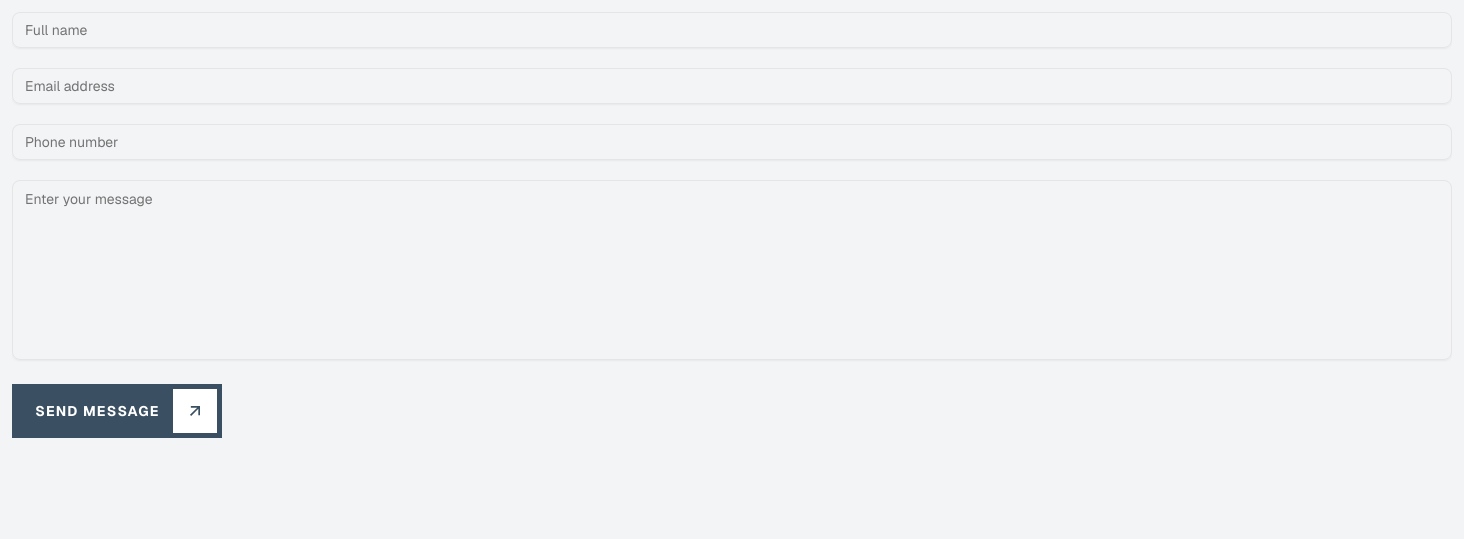
Test case: Contact Form › shows error alert when API fails
The width and height of the screenshot is (1464, 539).
Type "John Doe" into the field with placeholder "Full name" at (732, 30), box [12,12,1452,48]
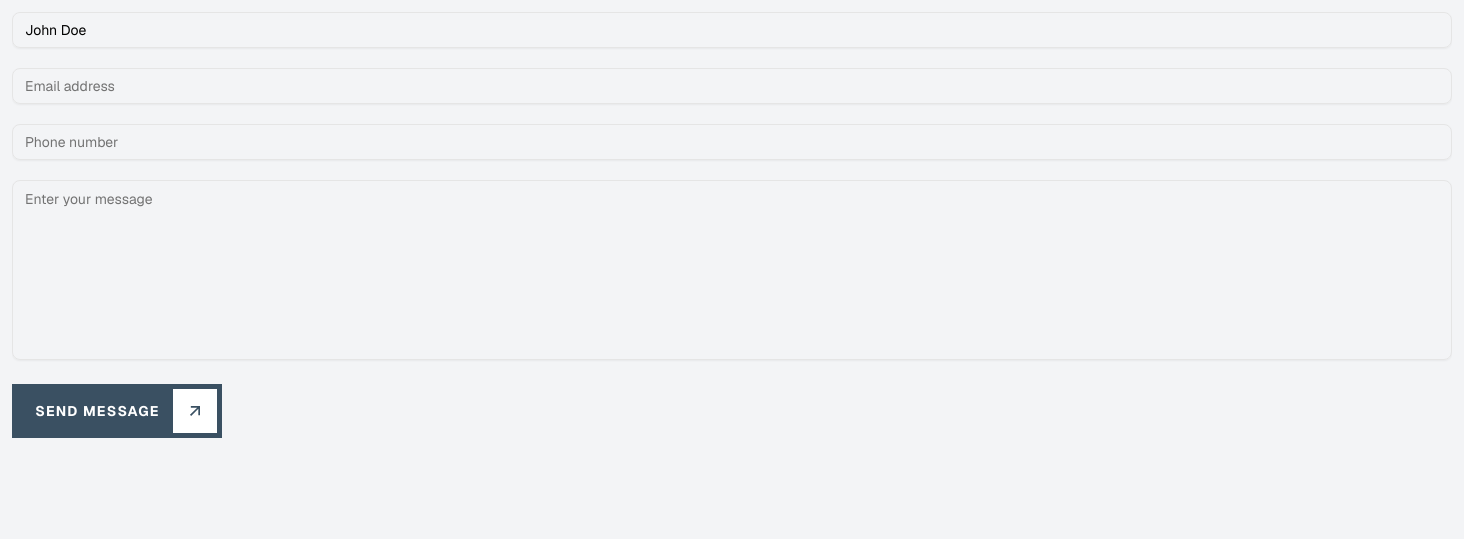
Type "john@example.com" into the field with placeholder "Email address" at (732, 86), box [12,68,1452,104]
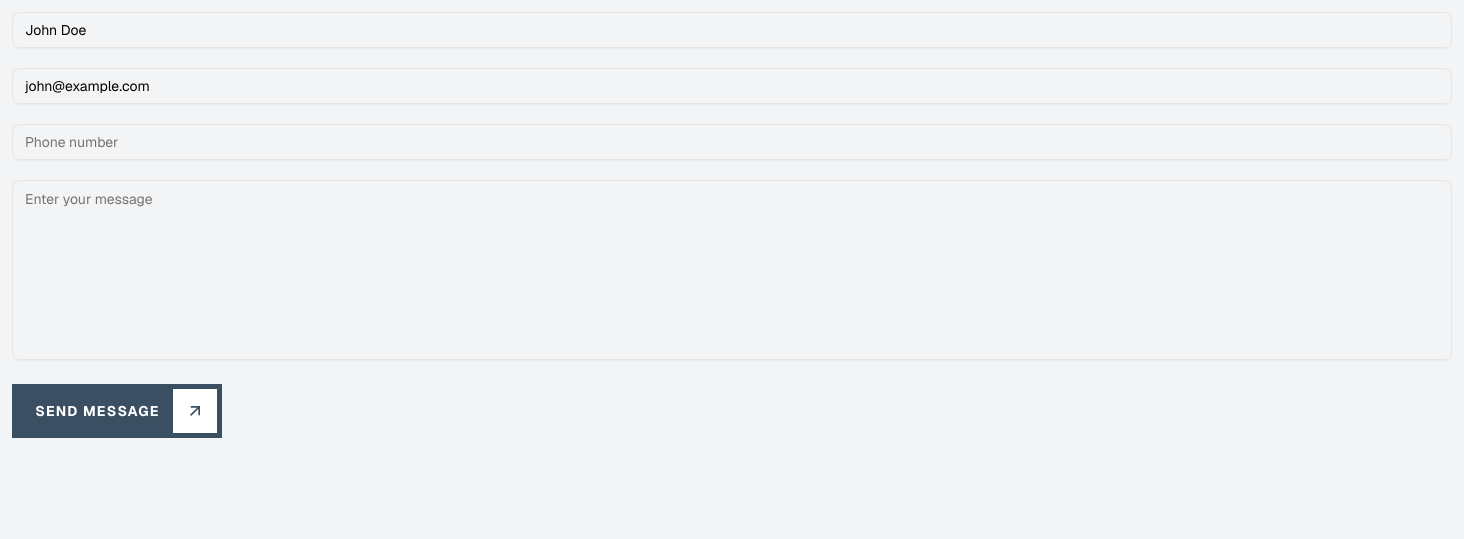
Type "555-5555" into the field with placeholder "Phone number" at (732, 142), box [12,124,1452,160]
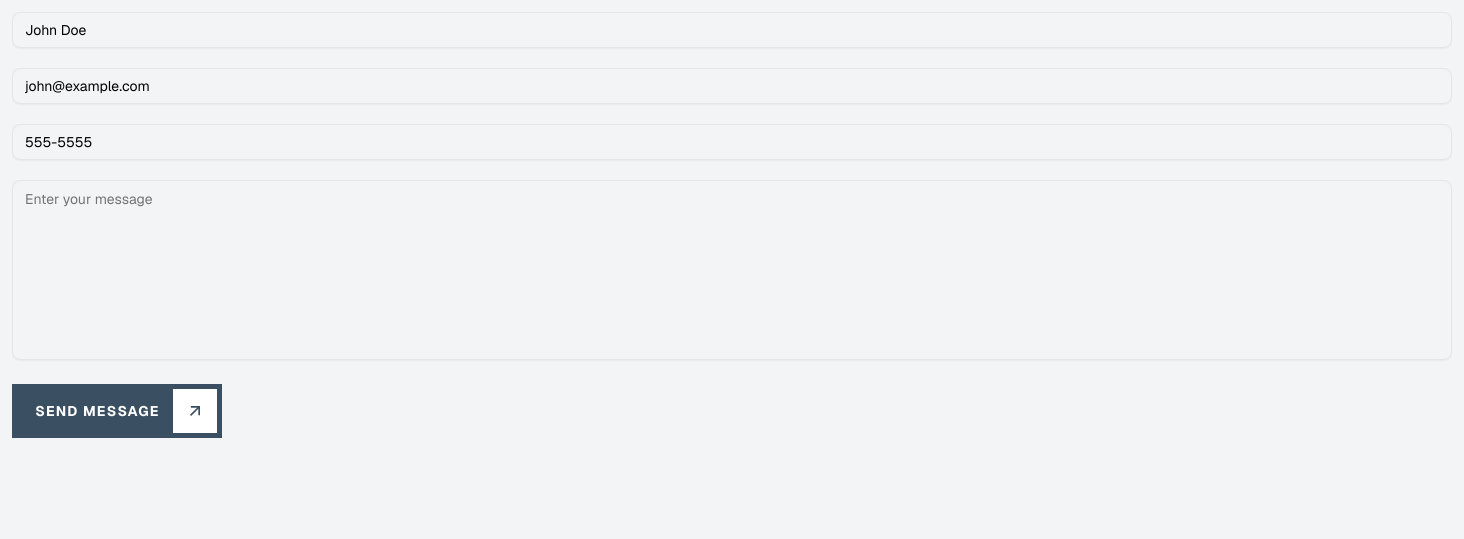
Type "Hello world" into the text box with placeholder "Enter your message" at (732, 270), box [12,180,1452,360]
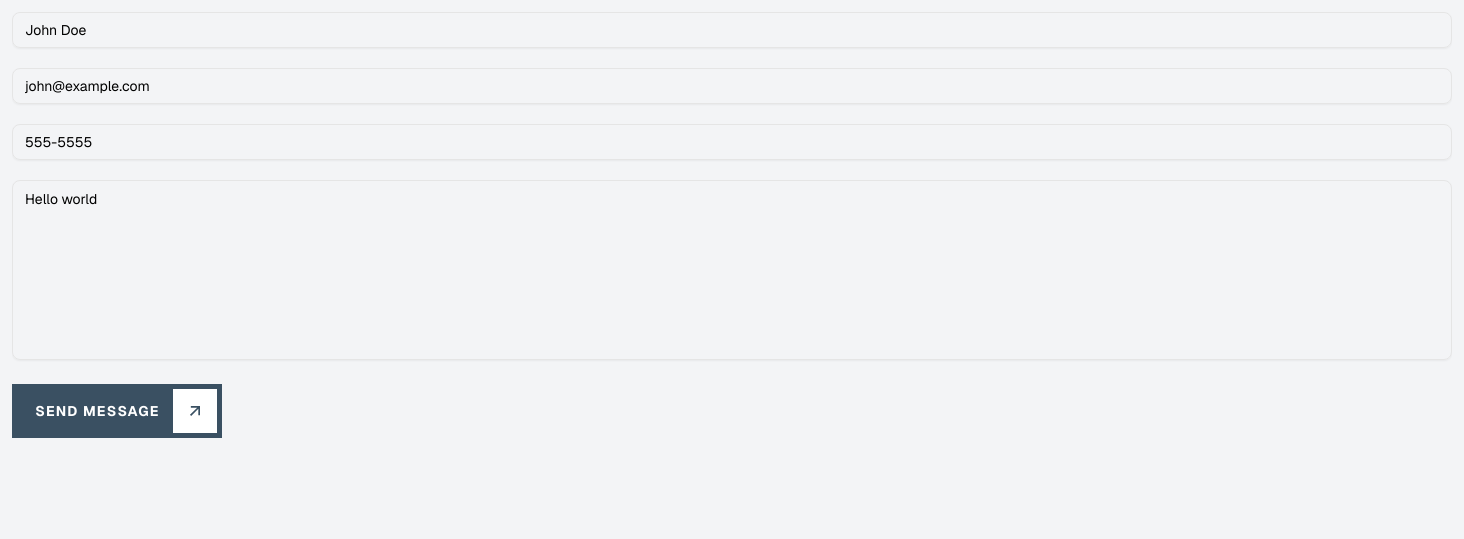
Click the button "Send Message" at (117, 411), box [12,384,222,438]
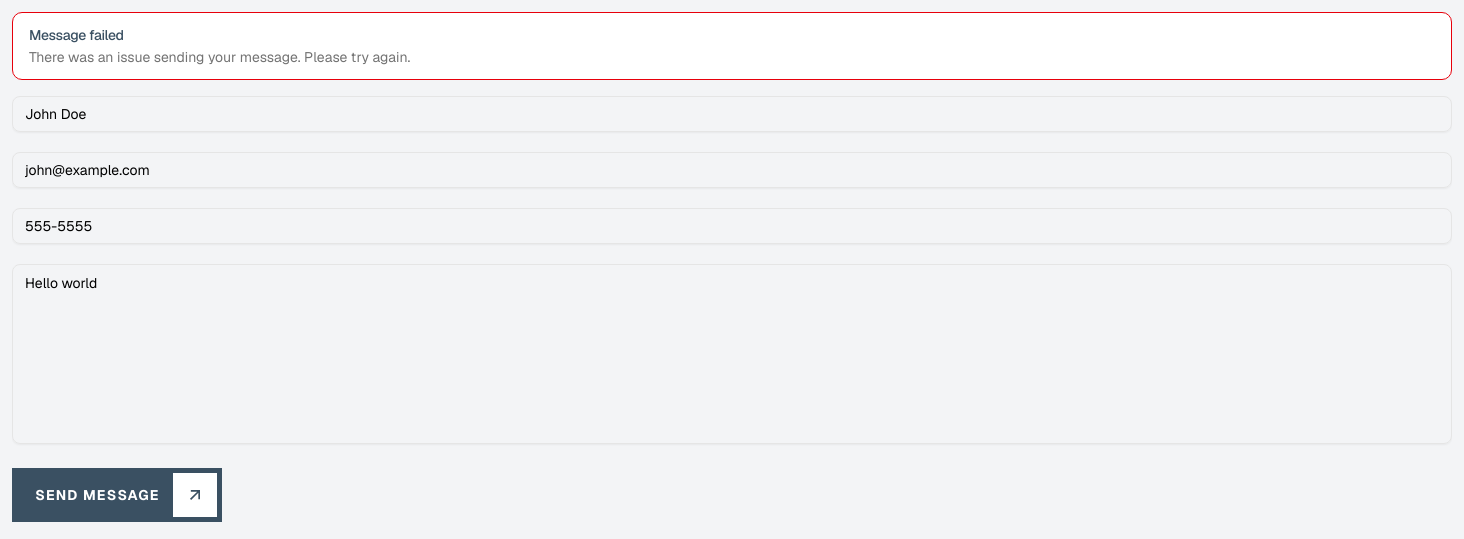
Expected: the text "There was an issue sending your message. Please try again." is shown, [29,48,410,66]
